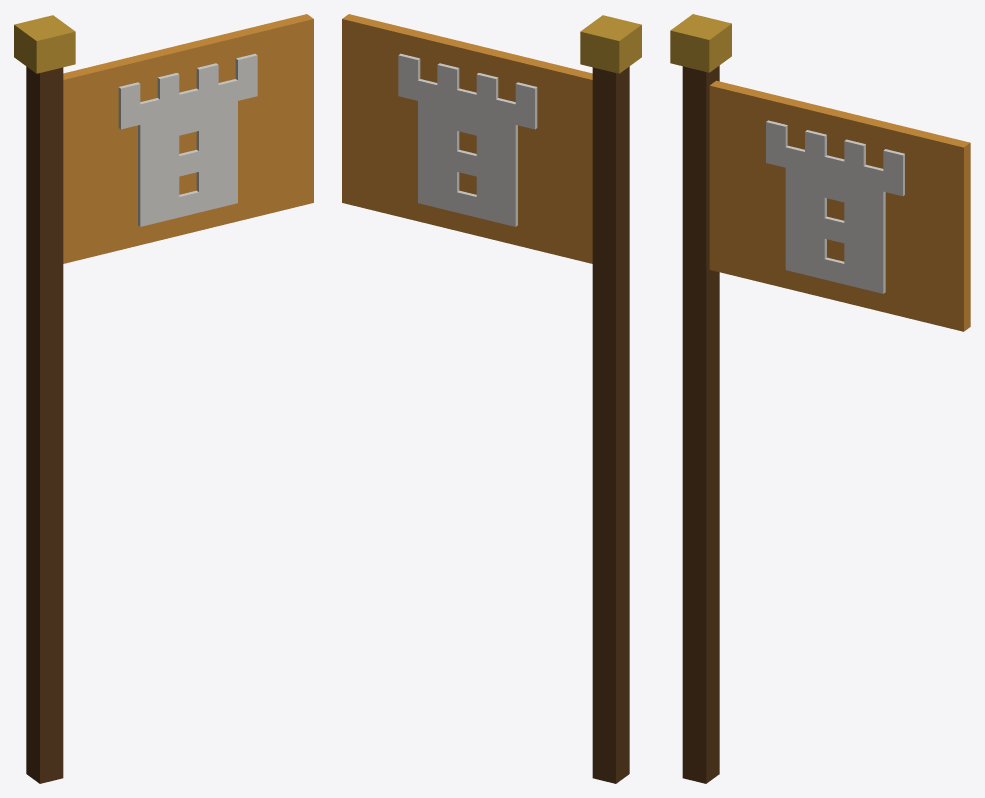
File: ncb-flag-square.glb
The picture shows the model from 3 angles, left to right: view 1: azimuth 30°, elevation 25°; view 2: azimuth 150°, elevation 25°; view 3: azimuth 330°, elevation 25°; orthographic projection.
Parts seen in each view (by area): view 1: box-prop; view 2: box-prop; view 3: box-prop.
Part boxes in pixels (<box>): box-prop: <box>14,14,313,783</box>; box-prop: <box>342,14,641,783</box>; box-prop: <box>670,14,970,783</box>.
Bounding box in the file's own units: 1.46 × 3.66 × 0.2.
